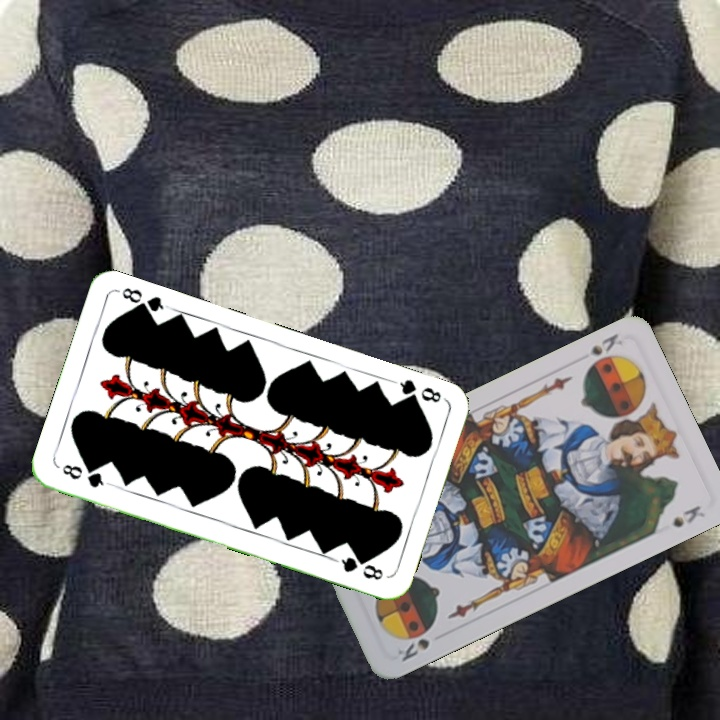G8: (389, 375, 447, 408), (58, 460, 106, 491)
SK: (581, 329, 625, 373), (393, 623, 436, 664)
